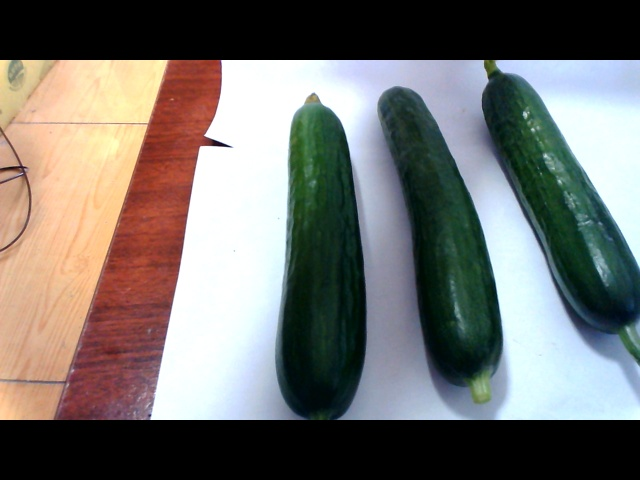cucumber: (487, 68, 640, 337), (384, 84, 501, 399), (274, 80, 374, 414)
